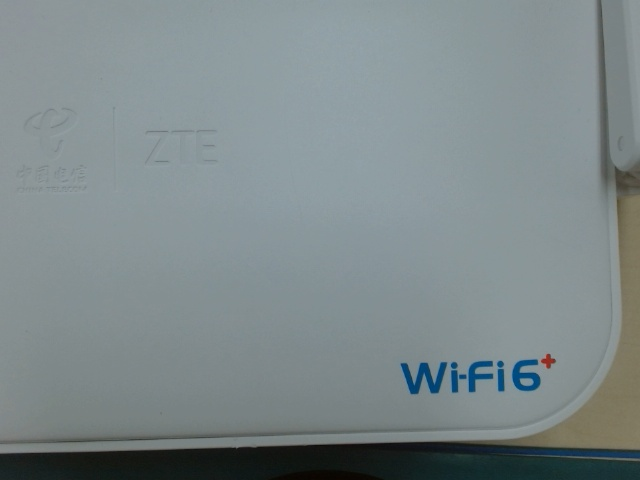AJ_ZTEWIFI6Plus: (391, 347, 563, 405)
